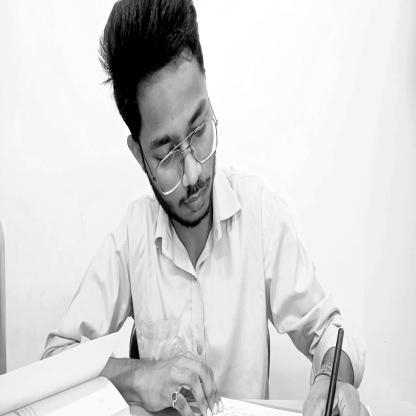Distracted: (104, 3, 221, 239)
